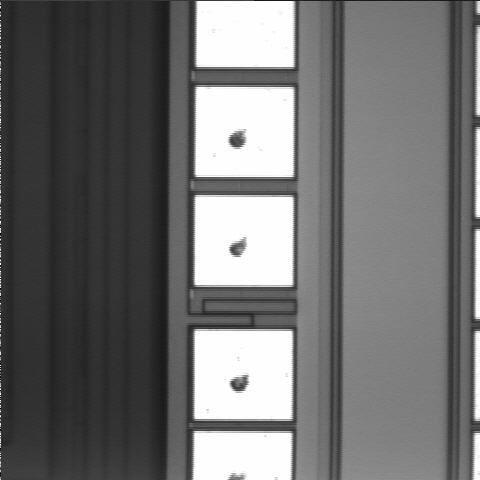pad: (195, 87, 294, 177), (195, 195, 293, 285), (195, 331, 292, 419)
